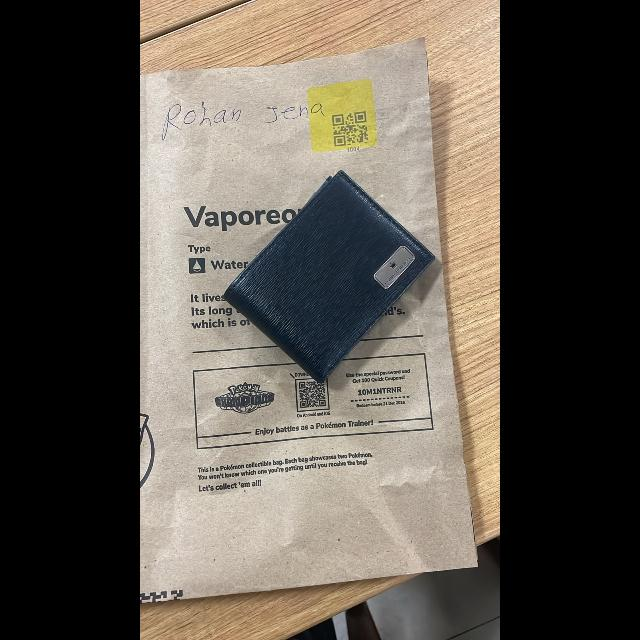wallet: (214, 158, 442, 394)
